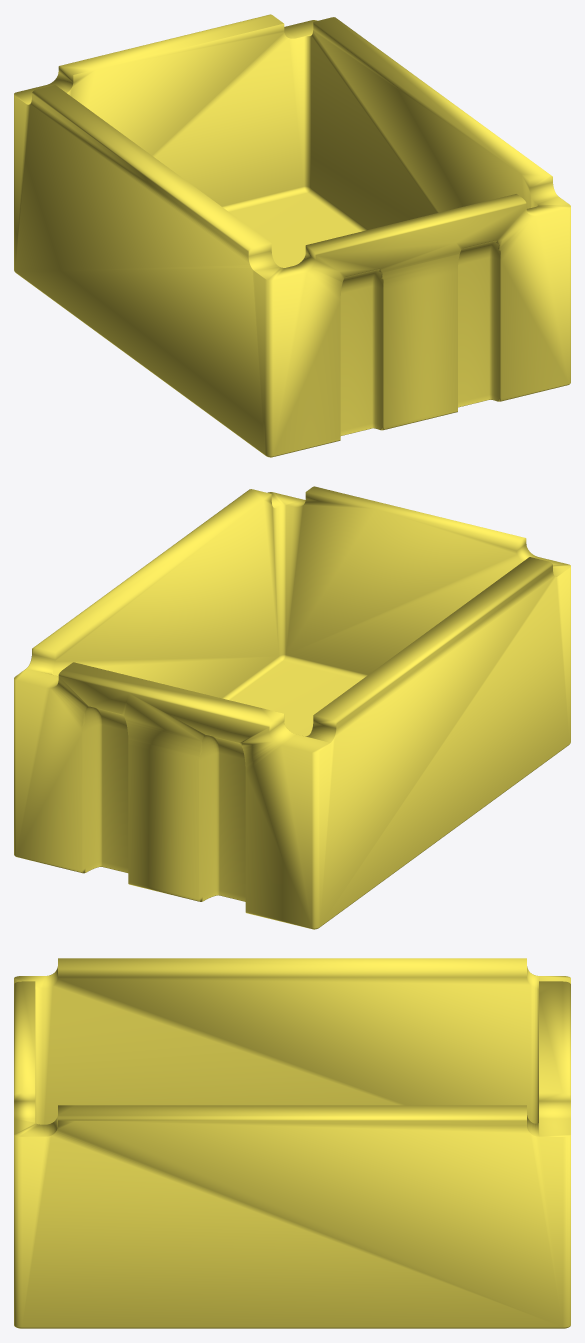
File: binfbx.fbx
The picture shows the model from 3 angles, top to bottom: view 1: azimuth 30°, elevation 25°; view 2: azimuth 150°, elevation 25°; view 3: azimuth 270°, elevation 25°; orthographic projection. The views are drawn at different scales.
Parts seen in each view (by area): view 1: obj_0; view 2: obj_0; view 3: obj_0.
Part boxes in pixels (x1,y1,x2,y2): obj_0: (14, 14, 570, 457); obj_0: (14, 486, 570, 929); obj_0: (14, 958, 570, 1328).
Size of the model in its own units: 52 by 32 by 76.
